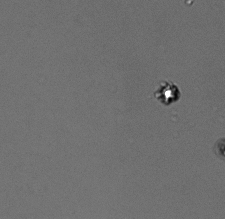Living Cell: (157, 83, 178, 105)
